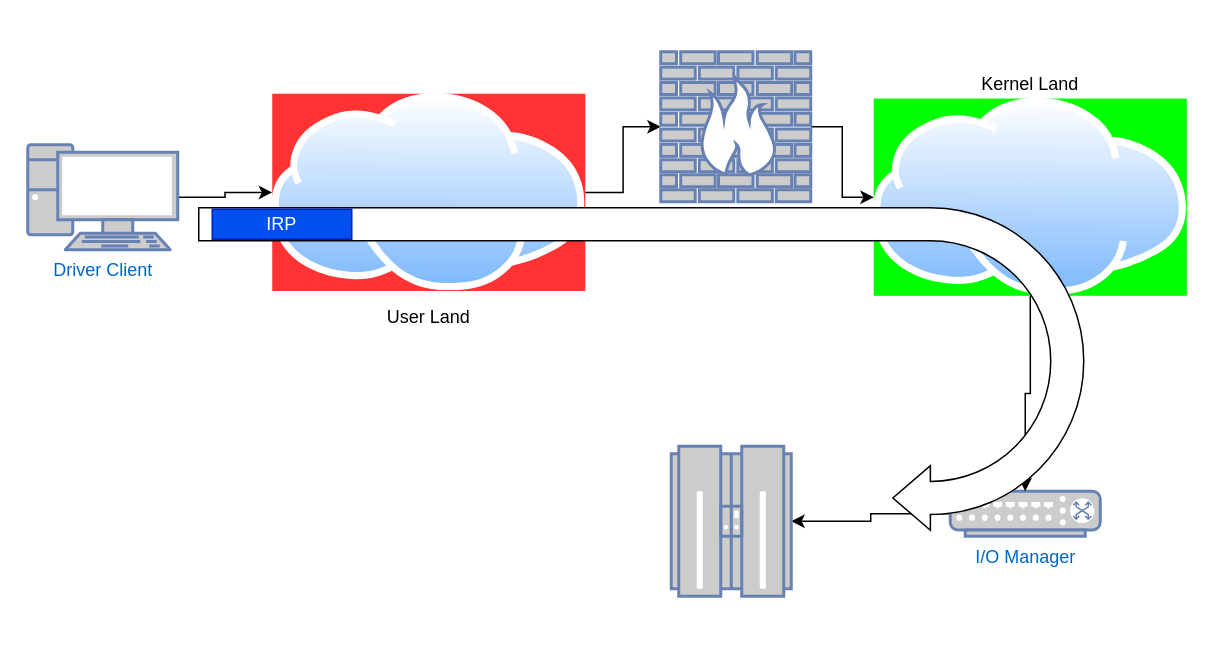
Image size: 1212x653. Some labels were removed from this diagram. Here are the shapes that lost their labels. From the top down, the box of each, then its label:
(658, 50, 812, 202): I/O System Services
(669, 444, 792, 597): Driver
